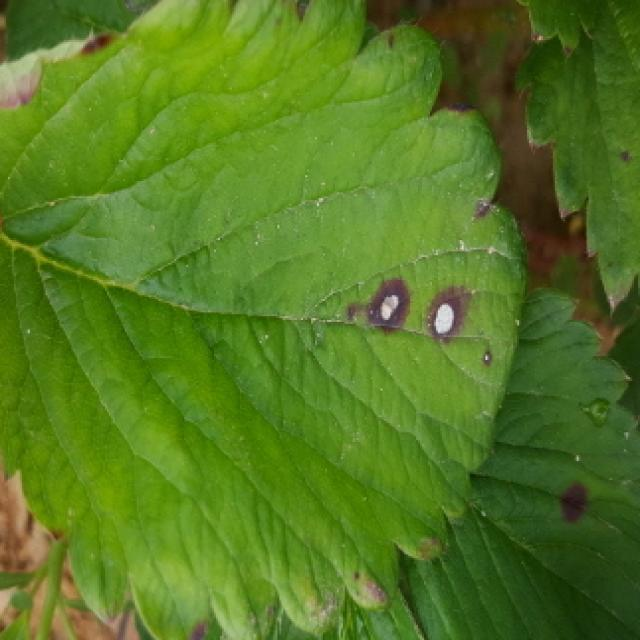Leaf Spot: (0, 0, 527, 640), (398, 285, 640, 640), (511, 0, 640, 314), (0, 32, 125, 183)
